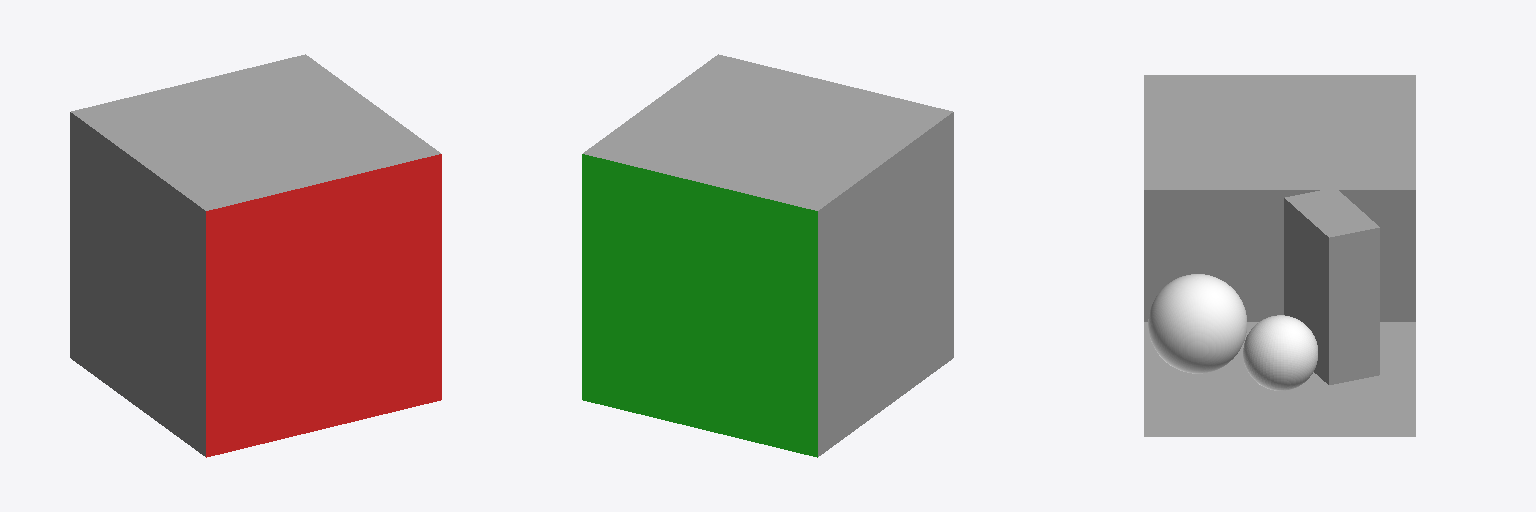
The model's file is cornell2.obj.
The picture shows the model from 3 angles: view 1: azimuth 30°, elevation 25°; view 2: azimuth 150°, elevation 25°; view 3: azimuth 270°, elevation 25°; orthographic projection.
Visible parts, largest first — view 1: Mesh.002_Mesh.004_Mesh_Mesh.00, Mesh.005_Mesh.003_Mesh.001_Mes; view 2: Mesh.002_Mesh.004_Mesh_Mesh.00, Mesh.001_Mesh.001_Mesh.002_Mes; view 3: Mesh.002_Mesh.004_Mesh_Mesh.00, Mesh.003_Mesh.005_Mesh.005_Mes, Mesh_Mesh.002_Mesh.004_Mes.
Boxes of the visible parts, x1=… form: Mesh.002_Mesh.004_Mesh_Mesh.00: x1=70, y1=54, x2=440, y2=456; Mesh.005_Mesh.003_Mesh.001_Mes: x1=206, y1=154, x2=441, y2=457; Mesh.002_Mesh.004_Mesh_Mesh.00: x1=583, y1=54, x2=953, y2=456; Mesh.001_Mesh.001_Mesh.002_Mes: x1=582, y1=154, x2=817, y2=457; Mesh.002_Mesh.004_Mesh_Mesh.00: x1=1144, y1=75, x2=1415, y2=436; Mesh.003_Mesh.005_Mesh.005_Mes: x1=1148, y1=274, x2=1246, y2=373; Mesh_Mesh.002_Mesh.004_Mes: x1=1243, y1=315, x2=1317, y2=390.
Bounding box in the file's own units: 10 × 10 × 10.